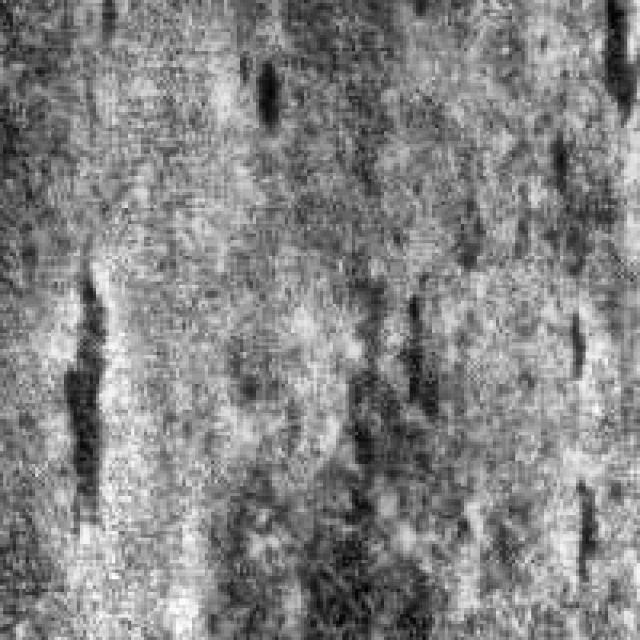Patches: (224, 346, 458, 628), (51, 250, 125, 538), (544, 476, 602, 602), (221, 44, 291, 148), (579, 0, 634, 115)
